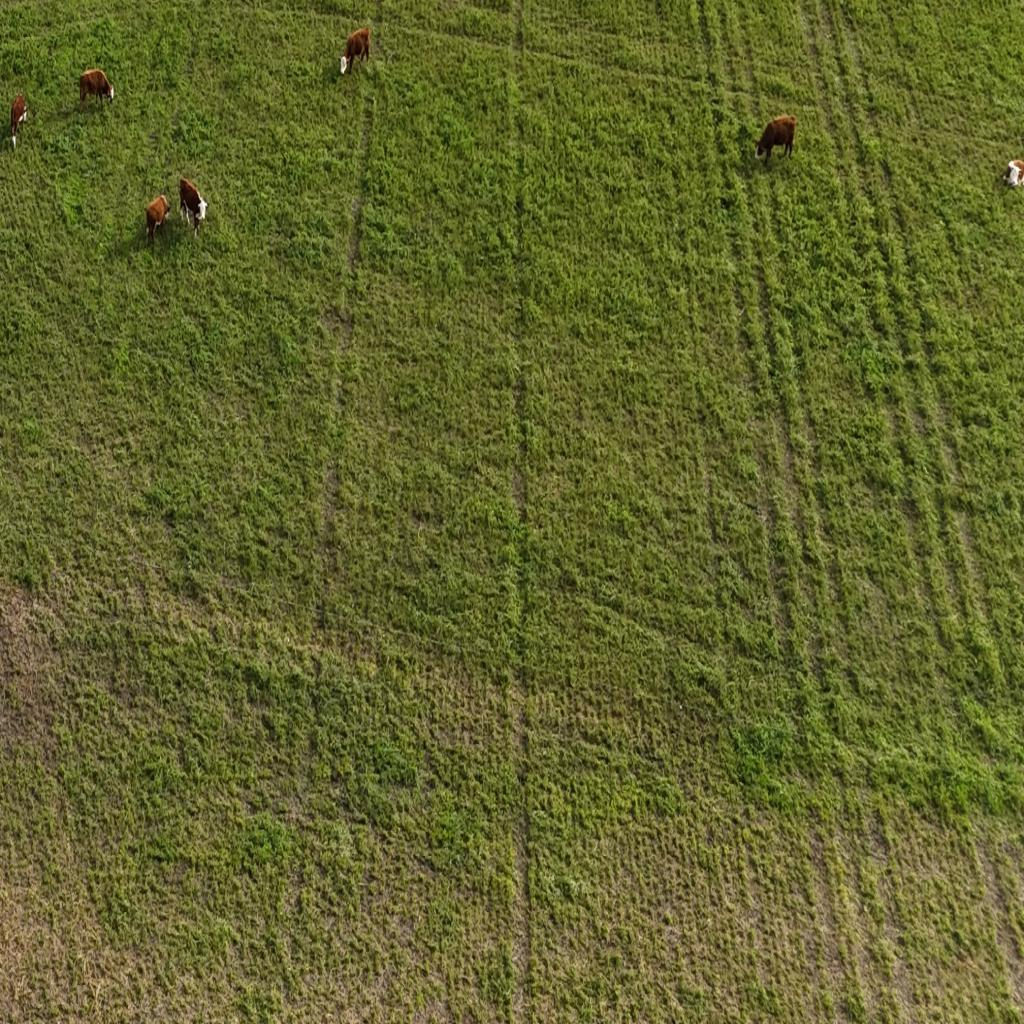cow: (754, 116, 795, 163), (180, 178, 209, 240), (340, 26, 372, 77), (80, 68, 115, 108), (144, 195, 170, 245), (10, 94, 28, 154), (1002, 158, 1023, 186)
